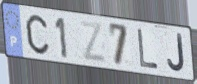1: (54, 16, 69, 60)
7: (108, 22, 132, 68)
C: (24, 13, 51, 56)
J: (166, 32, 186, 74)
L: (136, 27, 160, 71)
Z: (78, 19, 108, 65)
